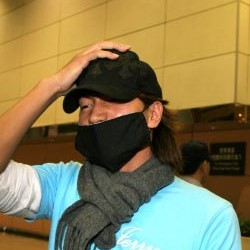mask: (75, 105, 152, 169)
